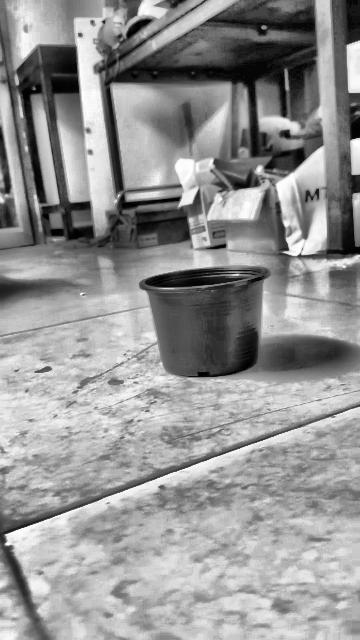pot: (140, 265, 269, 376)
